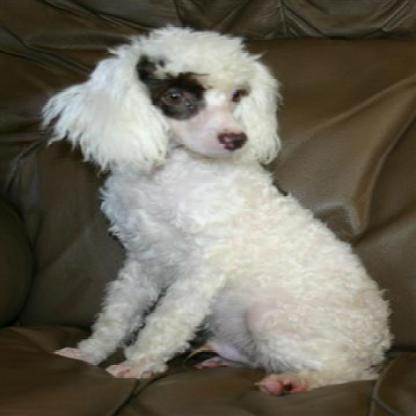toy_poodle: (41, 23, 390, 396)
